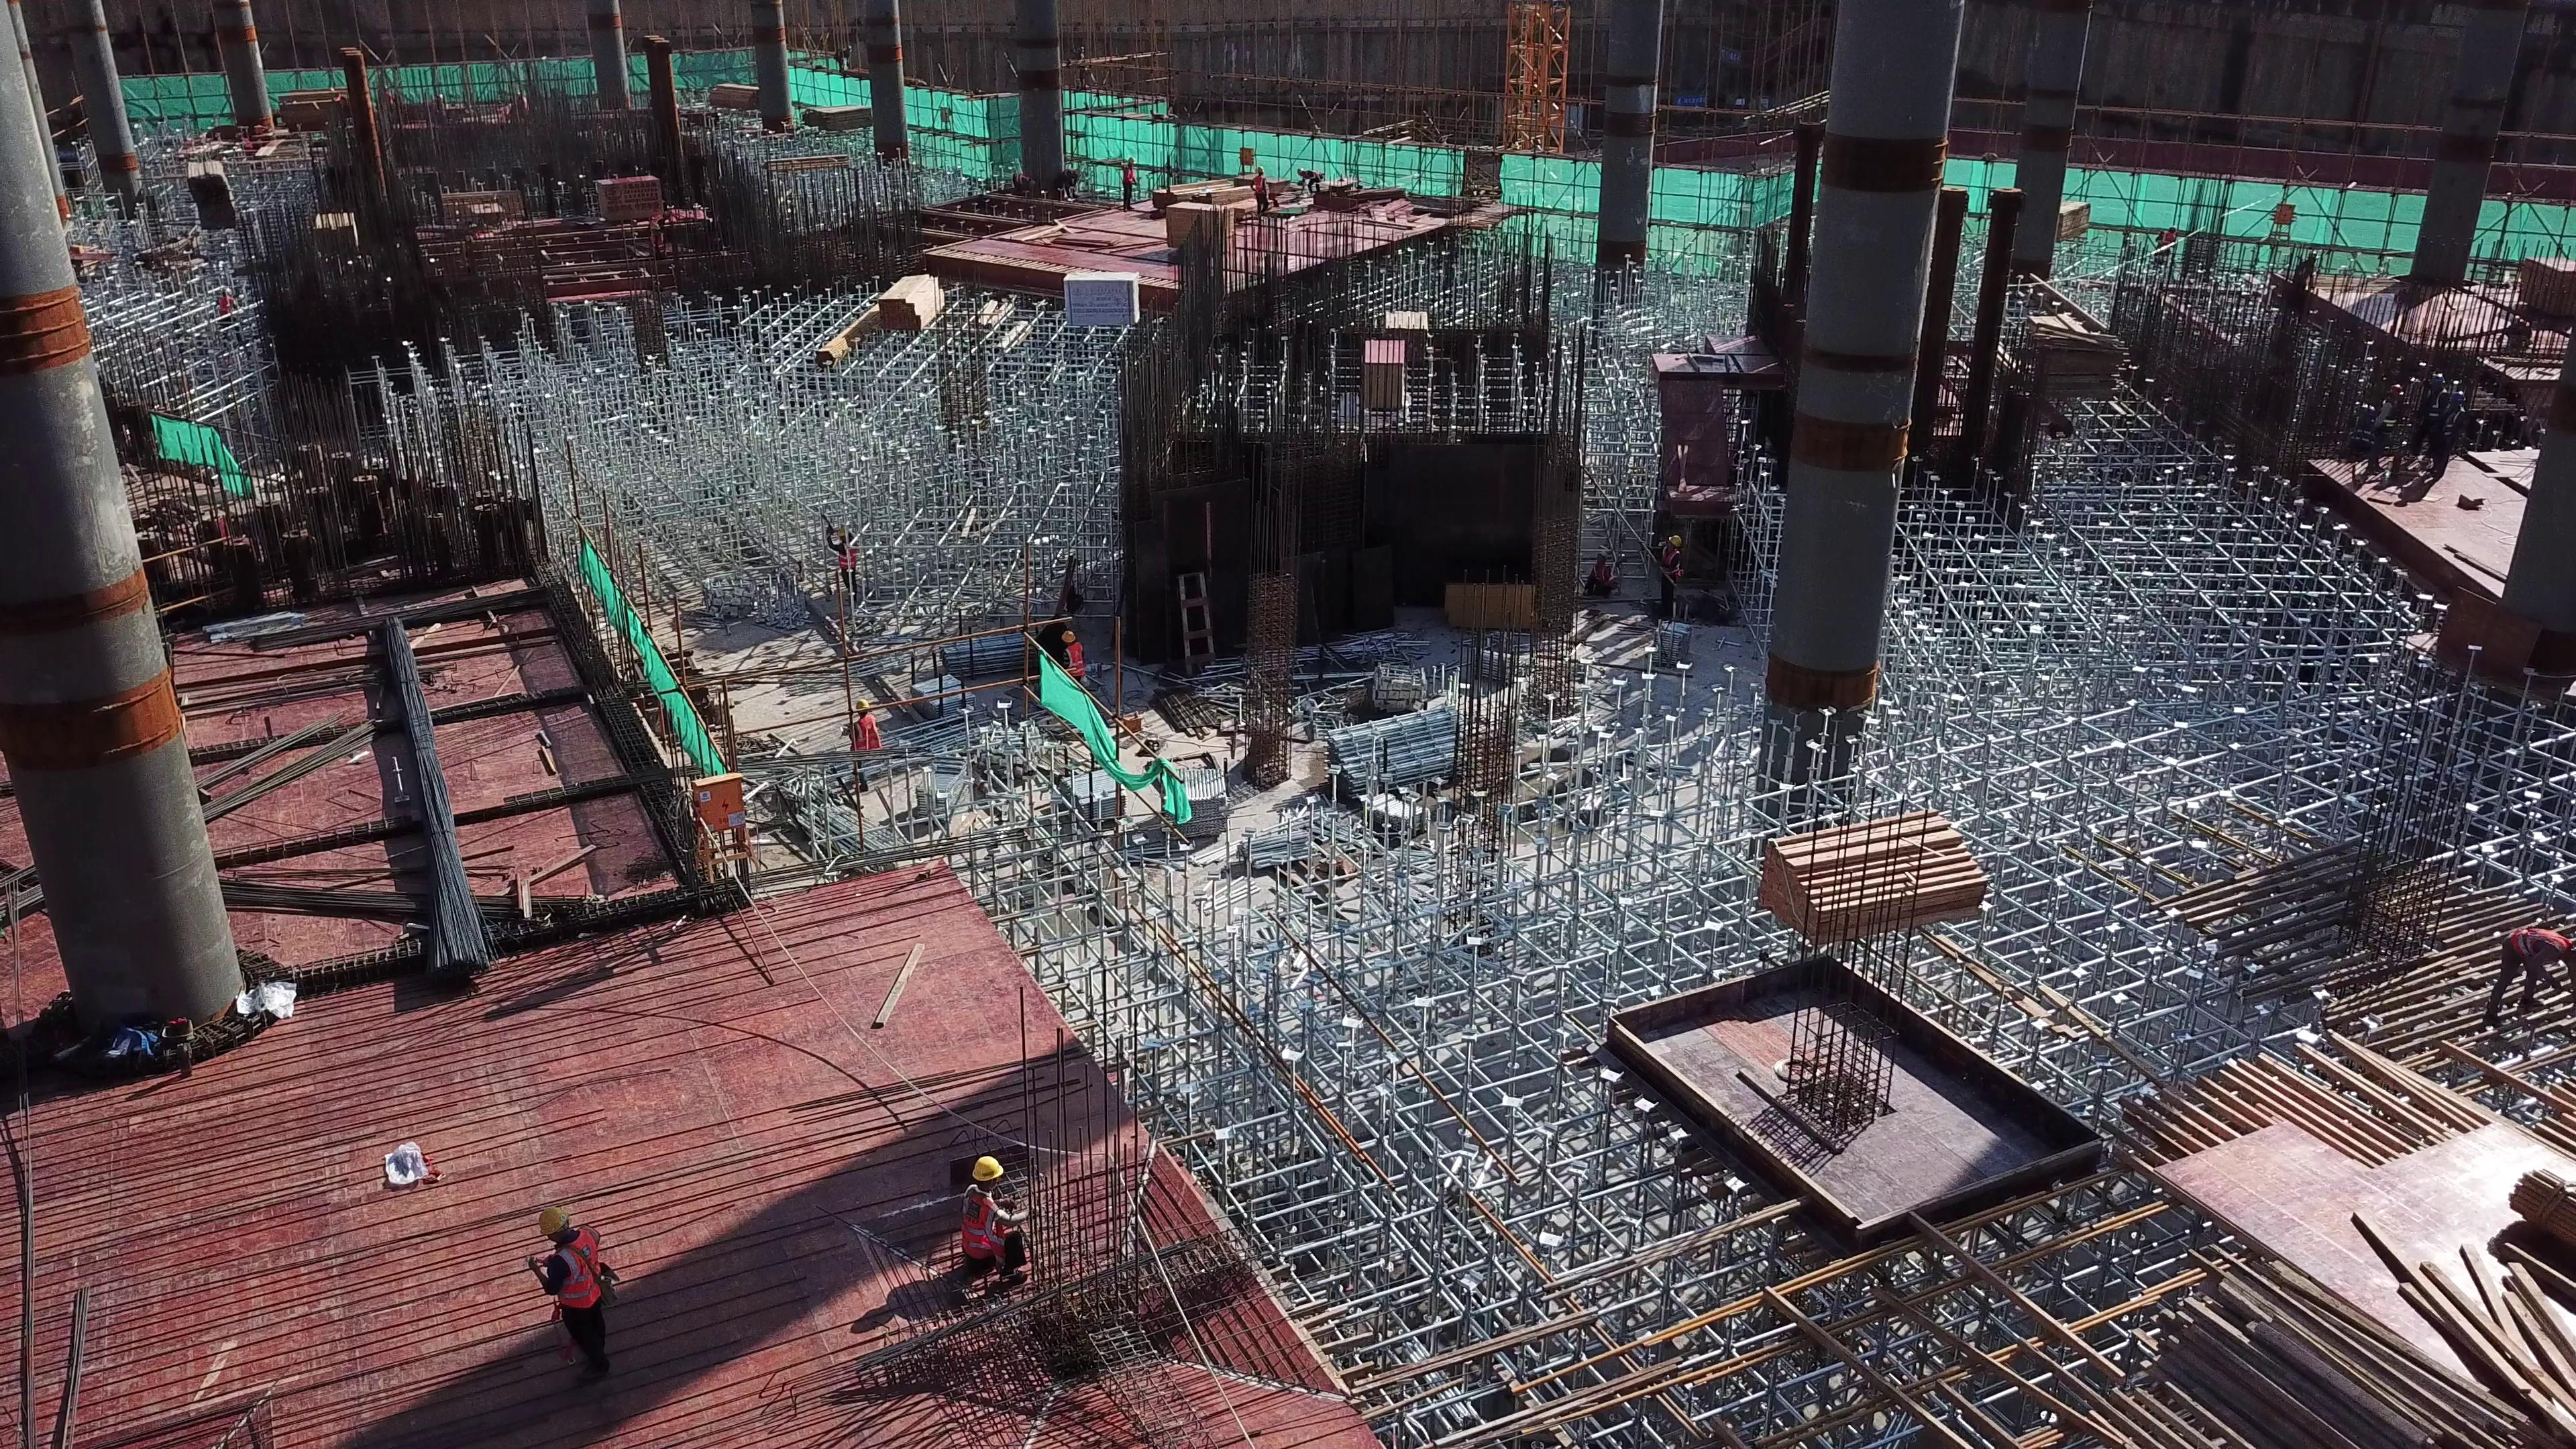board: (2159, 1120, 2507, 1291), (1361, 337, 1407, 404)
ebox: (686, 767, 747, 888), (2270, 199, 2295, 234), (1235, 146, 1257, 169)
helmet: (535, 1209, 574, 1234), (967, 1157, 1010, 1180), (1061, 630, 1080, 649), (1668, 534, 1682, 549), (854, 698, 869, 708), (1126, 158, 1136, 165), (1256, 167, 1263, 172)
person: (525, 1211, 609, 1395), (953, 1151, 1028, 1292), (2484, 921, 2576, 1029), (846, 705, 892, 789), (1653, 535, 1690, 619), (1046, 629, 1087, 696), (1586, 555, 1625, 604), (1116, 158, 1139, 222), (1248, 165, 1275, 219), (1294, 166, 1322, 198)
rebar: (377, 623, 494, 989)
scaffold: (1338, 703, 1466, 796), (1232, 806, 1346, 873), (1059, 759, 1124, 824), (1168, 765, 1226, 835), (1356, 788, 1429, 838), (943, 637, 1026, 674), (912, 760, 968, 816), (1635, 625, 1697, 665), (906, 678, 965, 719)
vest: (553, 1230, 618, 1307), (955, 1191, 1006, 1271), (2500, 922, 2565, 965), (852, 716, 879, 749), (1065, 641, 1089, 678), (1660, 549, 1681, 578), (1593, 566, 1611, 584), (1250, 176, 1267, 195), (1124, 166, 1136, 184)
wood: (1752, 808, 2015, 953), (867, 277, 942, 329)
